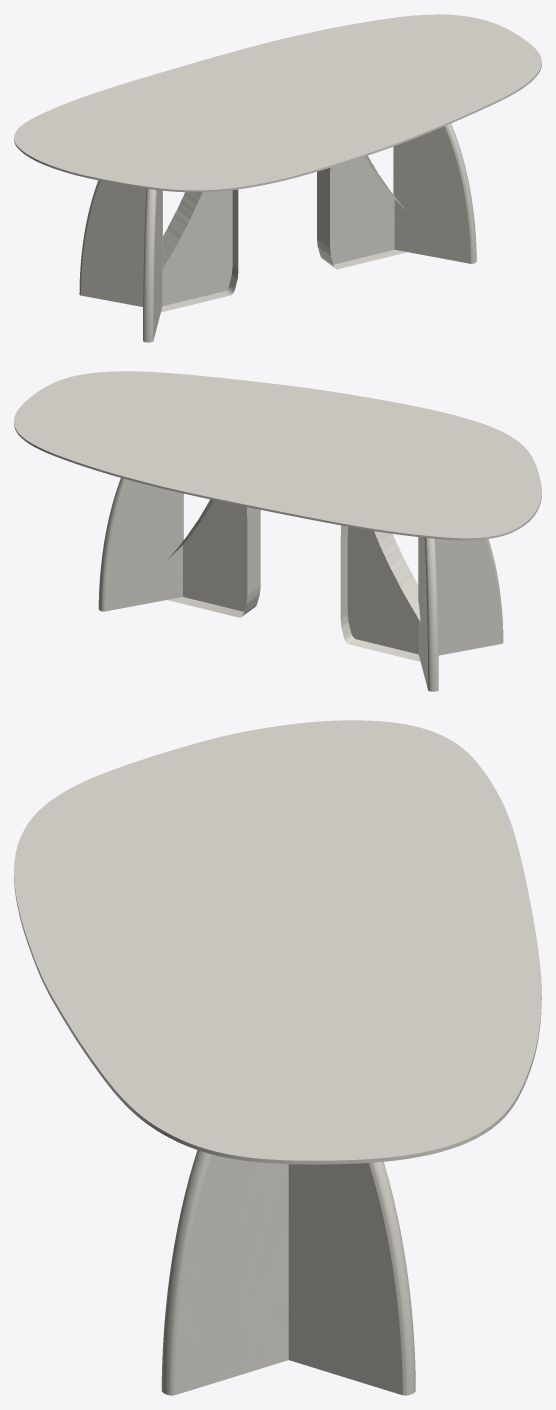
The model's file is pale_leaf2_facet_plane.glb.
3 renders of one model, top to bottom at view 1: azimuth 30°, elevation 25°; view 2: azimuth 150°, elevation 25°; view 3: azimuth 270°, elevation 25°, orthographic. The views are drawn at different scales.
Visible parts, largest first — view 1: facet_leaf2, plane_singleright2, plane_single1, plane_single2, plane_singleleft1, plane_singleright1; view 2: facet_leaf2, plane_singleleft2, plane_single1, plane_single2, plane_singleright1, plane_singleleft1; view 3: facet_leaf2, plane_singleright2, plane_singleleft2.
Boxes of the visible parts, x1,y1,x2,y2 form: facet_leaf2: (14,14,541,192); plane_singleright2: (393,123,476,263); plane_single1: (161,189,238,312); plane_single2: (317,155,407,269); plane_singleleft1: (79,180,162,306); plane_singleright1: (143,188,162,342); facet_leaf2: (14,371,541,540); plane_singleleft2: (98,478,183,611); plane_single1: (340,525,420,661); plane_single2: (168,499,260,617); plane_singleright1: (418,537,503,655); plane_singleleft1: (418,537,438,691); facet_leaf2: (14,720,541,1164); plane_singleright2: (161,1150,288,1395); plane_singleleft2: (288,1162,415,1395).
Bounding box in the file's own units: 7.5 × 2.49 × 3.8.
1 material, 1 textured.
